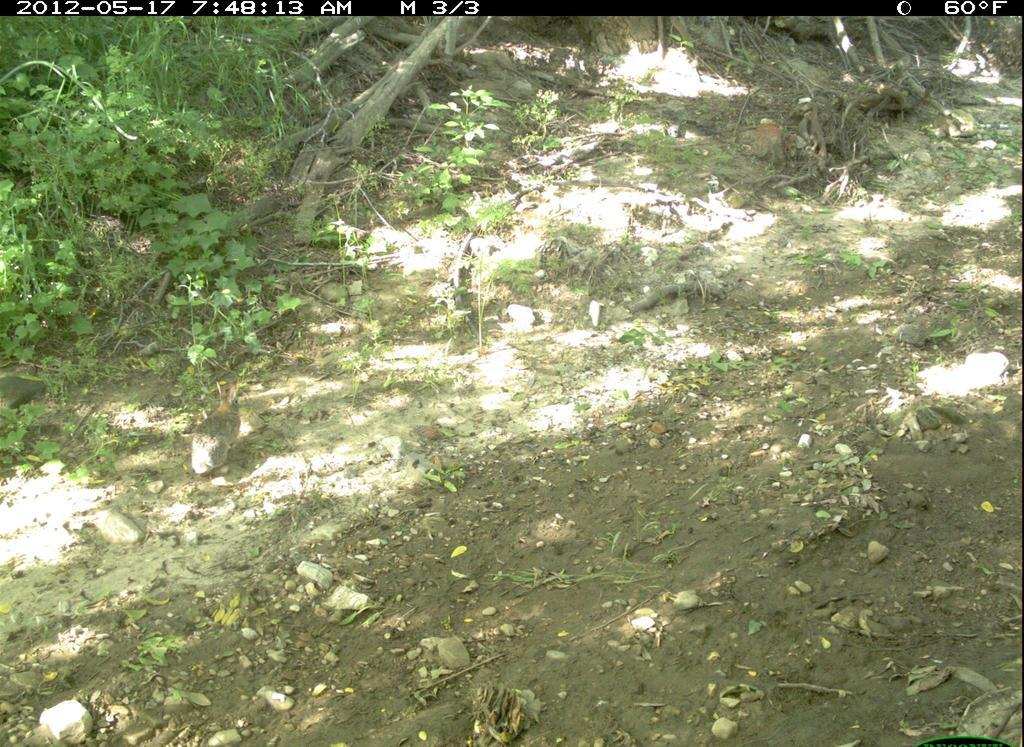rabbit: (186, 376, 246, 479)
